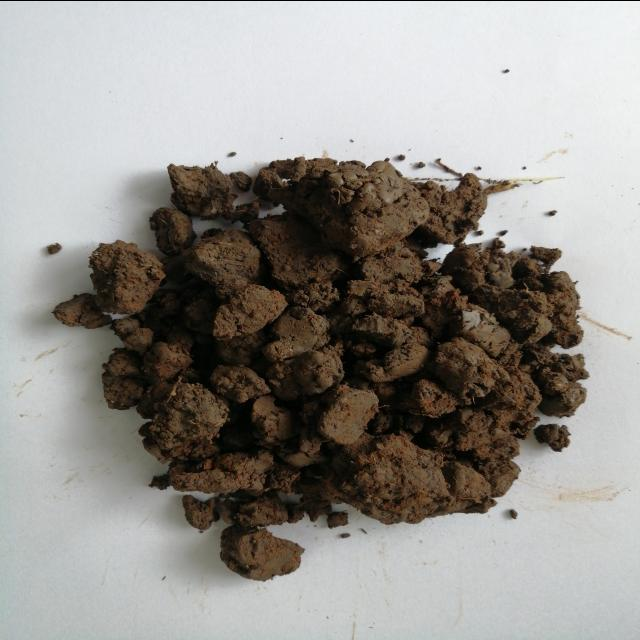soil: (157, 180, 525, 550)
